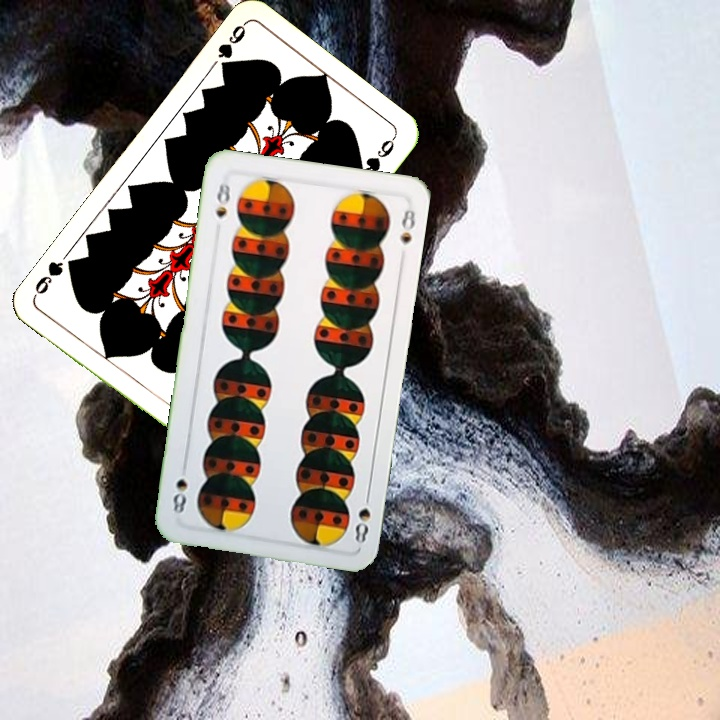G9: (213, 19, 249, 76)
S8: (351, 487, 374, 546), (211, 174, 233, 221)
